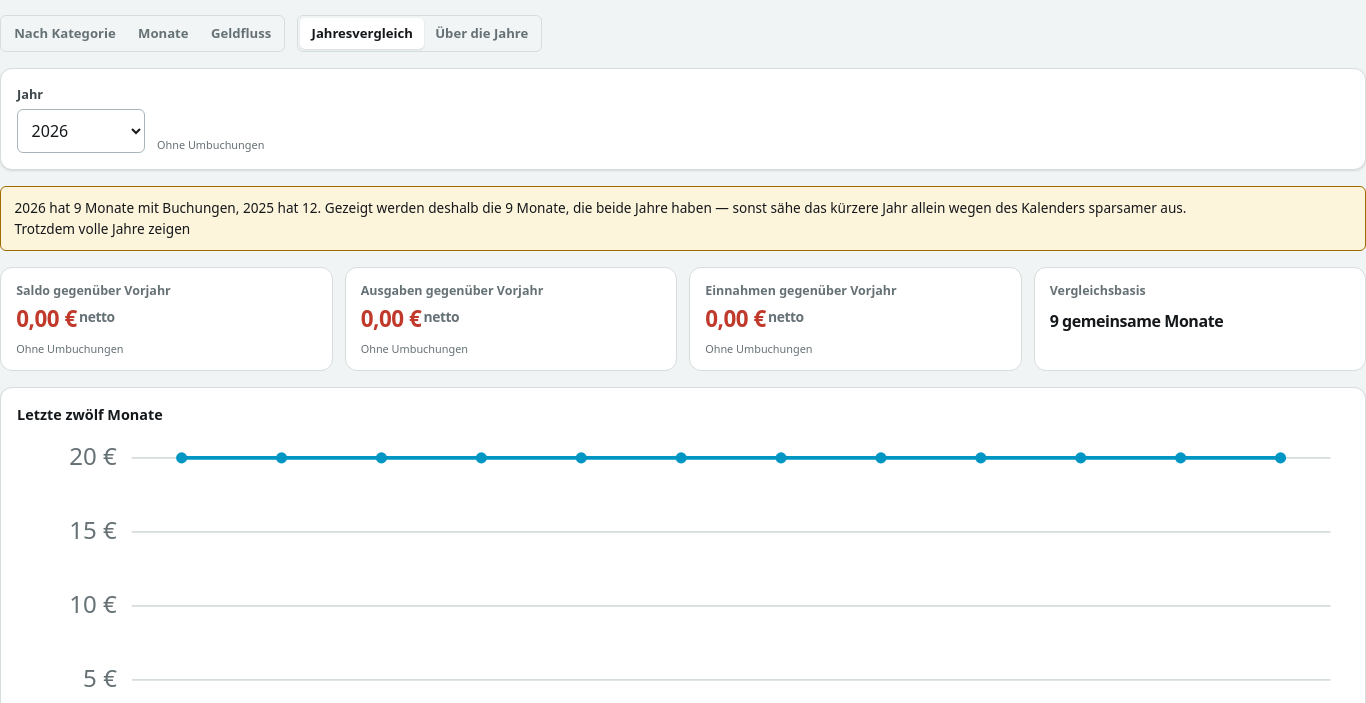
Scenario: the year comparison › shows a cost that fell as money gained, in both the figure and the percentage
Click the button "Trotzdem volle Jahre zeigen": (102, 229) 15,219 -> 190,239
(page scrolled)
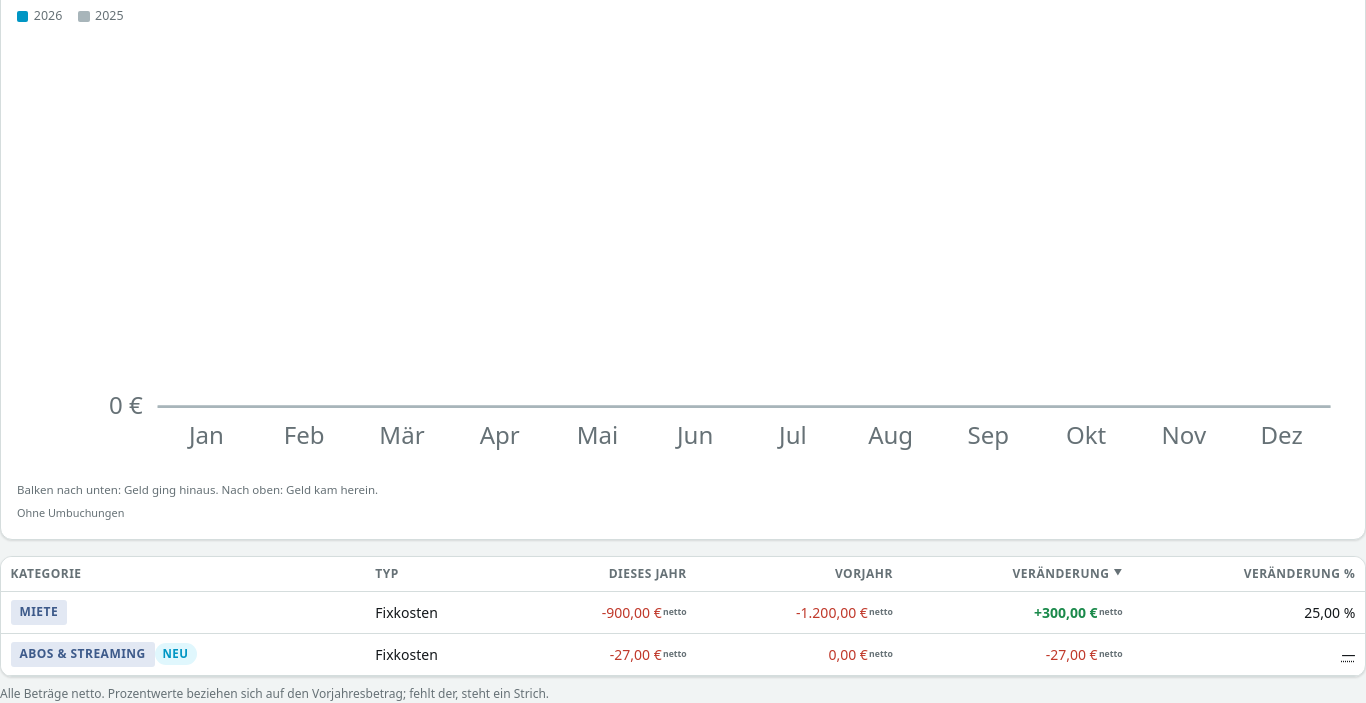
Now the row that starts with "Miete" reads "Miete Fixkosten -900,00 €netto -1.200,00 €netto +300,00 €netto 25,00 %", box 1304,603 -> 1355,622
